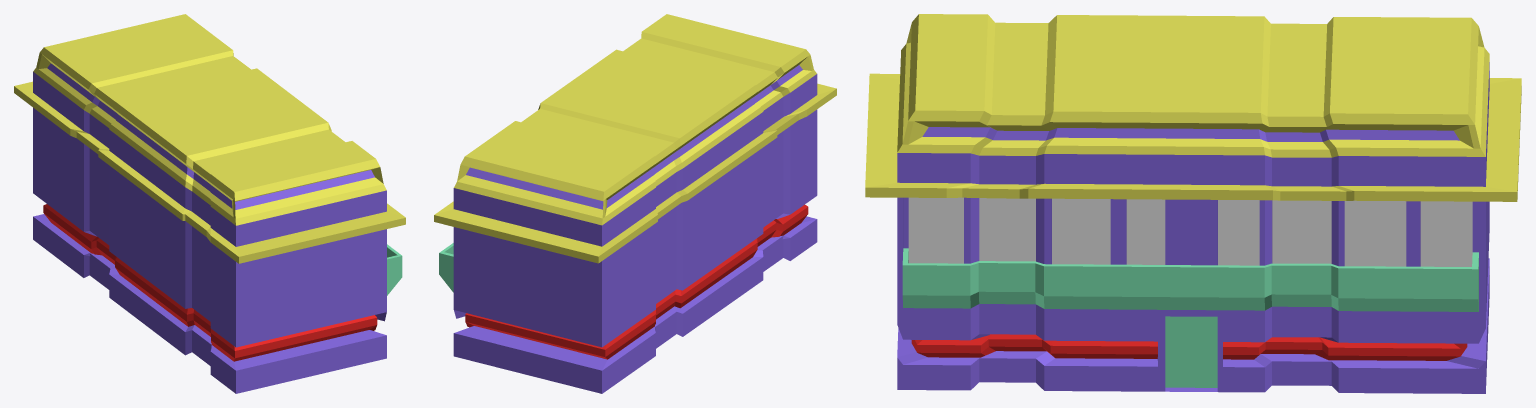
The model's file is FBX_BalconyBuilding.fbx.
3 views of the same model, side by side, from view 1: azimuth 30°, elevation 25°; view 2: azimuth 150°, elevation 25°; view 3: azimuth 270°, elevation 25° (orthographic). The views are drawn at different scales.
Parts seen in each view (by area): view 1: FBX_UC_mBuilding_6; view 2: FBX_UC_mBuilding_6; view 3: FBX_UC_mBuilding_6.
Part boxes in pixels (x1,y1,x2,y2): FBX_UC_mBuilding_6: (14,14,405,393); FBX_UC_mBuilding_6: (434,14,836,393); FBX_UC_mBuilding_6: (865,14,1521,393).
Bounding box in the file's own units: 1566 × 1620 × 3488.
